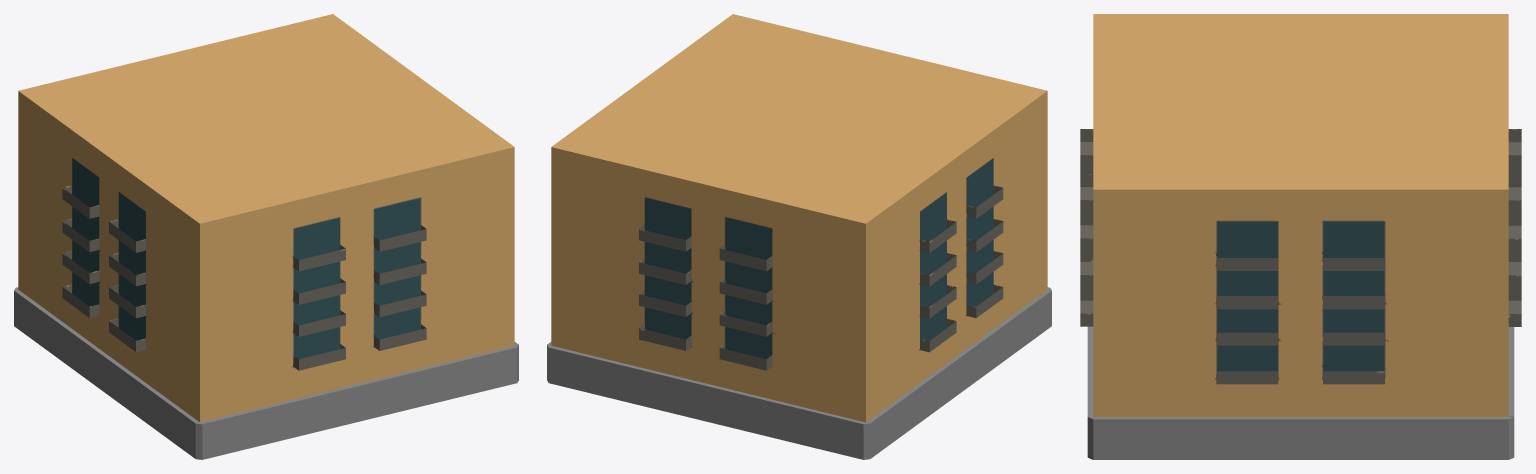
Rendered from Edificio_BalconessinGrafiti.fbx.
3 views of the same model, side by side, from view 1: azimuth 30°, elevation 25°; view 2: azimuth 150°, elevation 25°; view 3: azimuth 270°, elevation 25° (orthographic). The views are drawn at different scales.
Parts seen in each view (by area): view 1: 136_residential building texture.002; view 2: 136_residential building texture.002; view 3: 136_residential building texture.002.
Part boxes in pixels (x1,y1,x2,y2): 136_residential building texture.002: (14, 14, 518, 459); 136_residential building texture.002: (547, 14, 1051, 459); 136_residential building texture.002: (1080, 14, 1521, 459).
Bounding box in the file's own units: 5527 × 3704 × 5527.
Materials: 1 (1 with a texture image).
